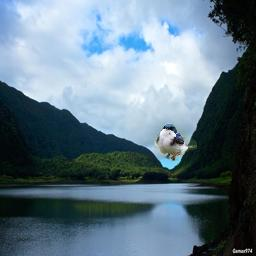Swallow: (154, 123, 197, 161)
